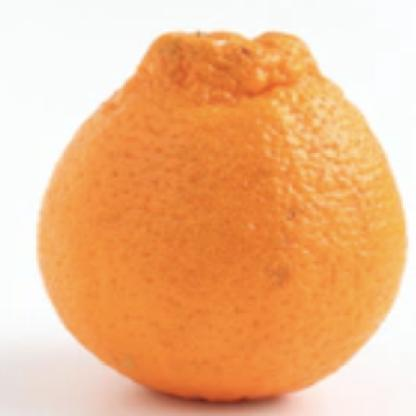fresh: (40, 31, 409, 404)
